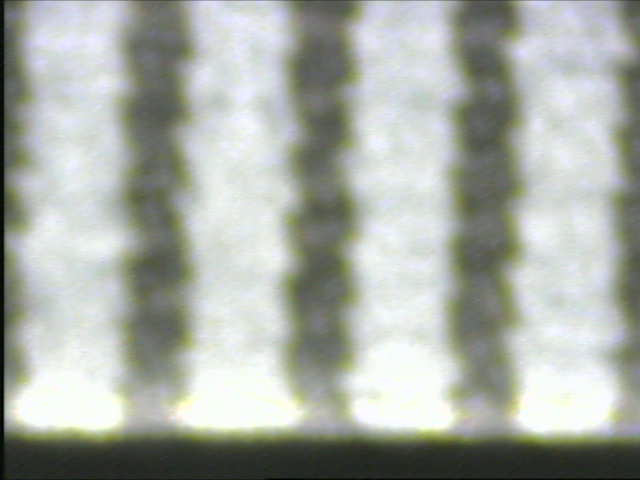line: (437, 1, 530, 427), (110, 1, 202, 426), (278, 1, 366, 429)
